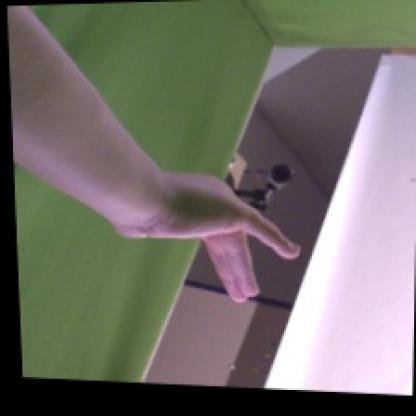Hand: (124, 173, 300, 303)
